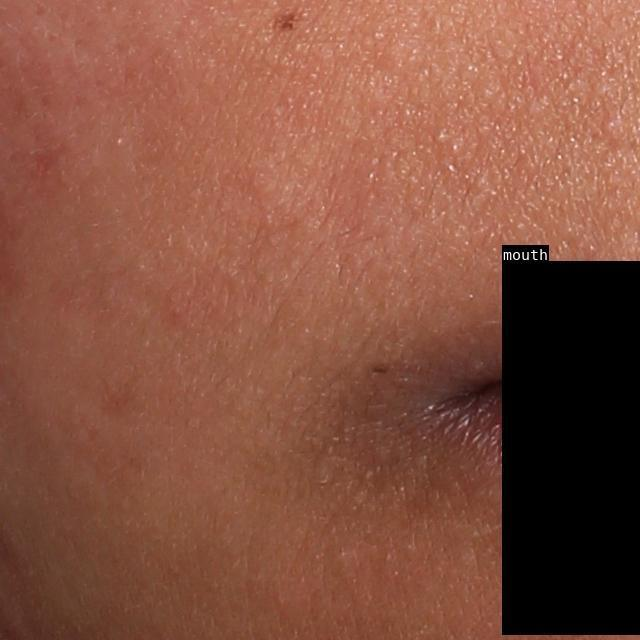comedo: (434, 126, 449, 148)
nevus: (270, 16, 300, 32)
